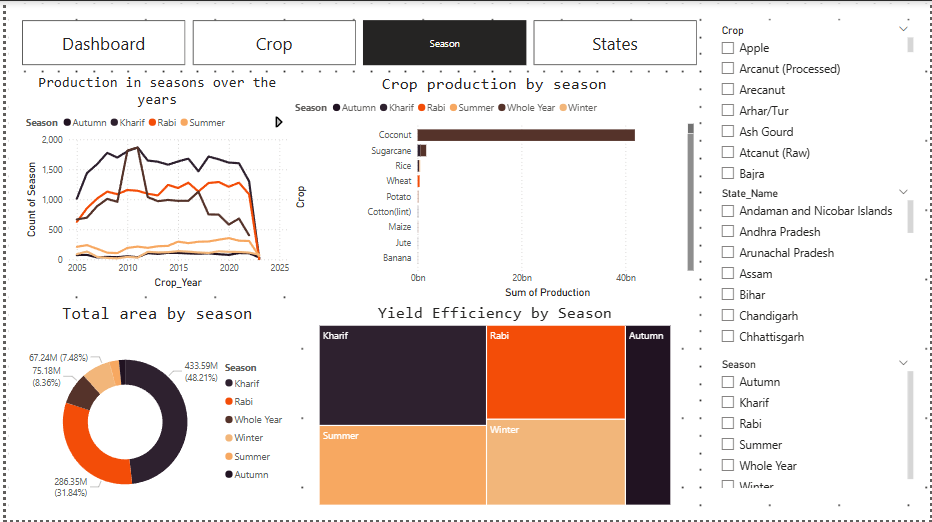

This screenshot's page, from the dashboard's own definition file:
{"tool":"powerbi","page":{"name":"Season","canvas":[1280,720],"ordinal":2},"visuals":[{"type":"slicer","fields":{"Values":["e33952a7b79341025642.Crop"]},"box":[977.9,26.8,283.5,225.5],"z":0},{"type":"slicer","fields":{"Values":["india.State_Name"]},"box":[977.9,252.3,283.5,236.7],"z":1000},{"type":"slicer","fields":{"Values":["e33952a7b79341025642.Season"]},"box":[977.9,488.9,283.5,189.8],"z":2000},{"type":"pageNavigator","box":[22.3,26.8,935.4,62.5],"z":3000},{"type":"lineChart","title":"Production in seasons over the years","fields":{"Category":["e33952a7b79341025642.Crop_Year"],"Series":["e33952a7b79341025642.Season"],"Y":["CountNonNull(e33952a7b79341025642.Season)"]},"box":[21.6,100.8,374.4,302.4],"z":4000},{"type":"donutChart","title":"Total area by season","fields":{"Y":["Sum(e33952a7b79341025642.Area)"],"Category":["e33952a7b79341025642.Season"]},"box":[21.6,417.6,374.4,302.4],"z":5000},{"type":"barChart","title":"Crop production by season","fields":{"Y":["Sum(india.Production)"],"Category":["india.Crop"],"Series":["india.Season"]},"box":[396,100.8,561.6,316.8],"z":6000},{"type":"treemap","fields":{"Values":["india.Yield Efficiency"],"Group":["india.Season"]},"box":[429.6,417.6,496.8,285.6],"z":7000}]}

Visuals, with their boxes on the page's 1280x720 design canvas (x1, y1, x2, y2). These are canvas units, not pixel positions in the 932x522 screenshot, which may show the page scaled, cropped or inside an application window:
slicer - e33952a7b79341025642.Crop: box(978, 27, 1261, 252)
slicer - india.State_Name: box(978, 252, 1261, 489)
slicer - e33952a7b79341025642.Season: box(978, 489, 1261, 679)
pageNavigator: box(22, 27, 958, 89)
"Production in seasons over the years" lineChart: box(22, 101, 396, 403)
"Total area by season" donutChart: box(22, 418, 396, 720)
"Crop production by season" barChart: box(396, 101, 958, 418)
treemap - india.Yield Efficiency x india.Season: box(430, 418, 926, 703)
